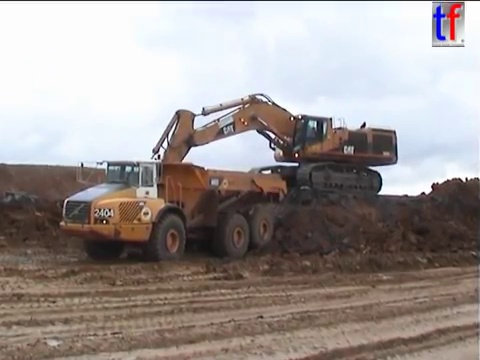excavator: (121, 91, 400, 220)
truck: (56, 151, 290, 265)
